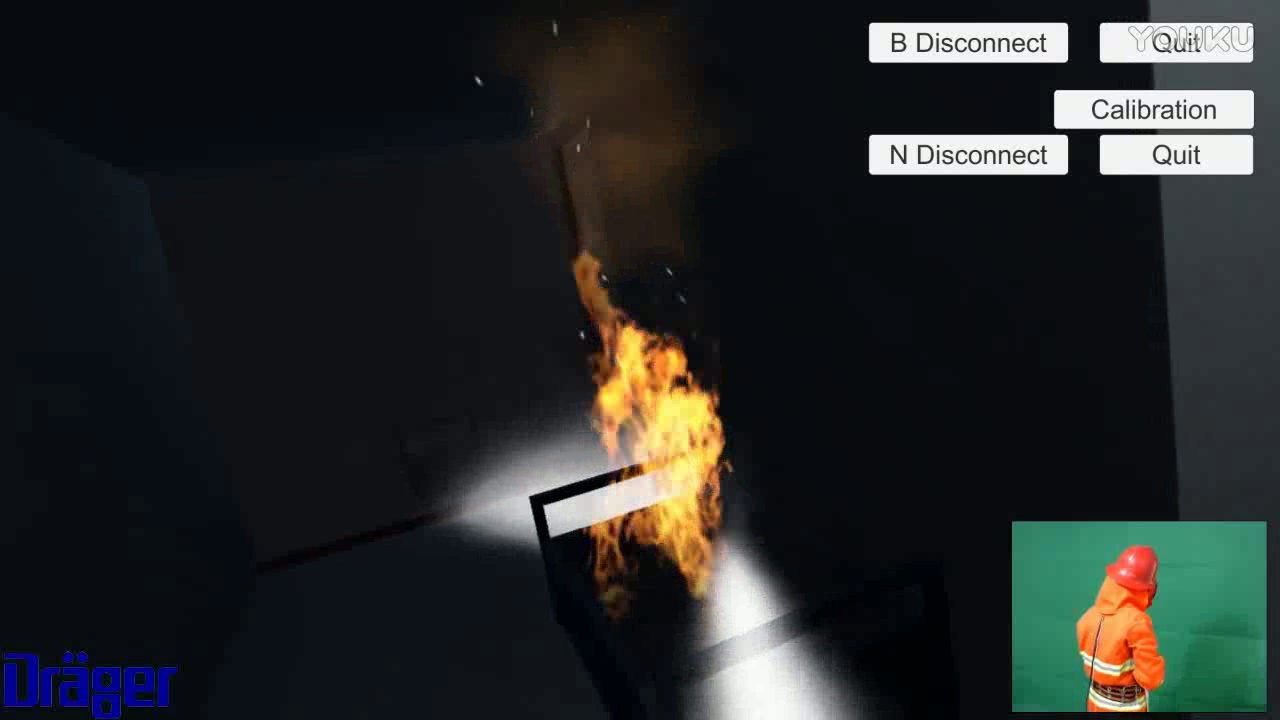fire: (558, 255, 726, 619)
